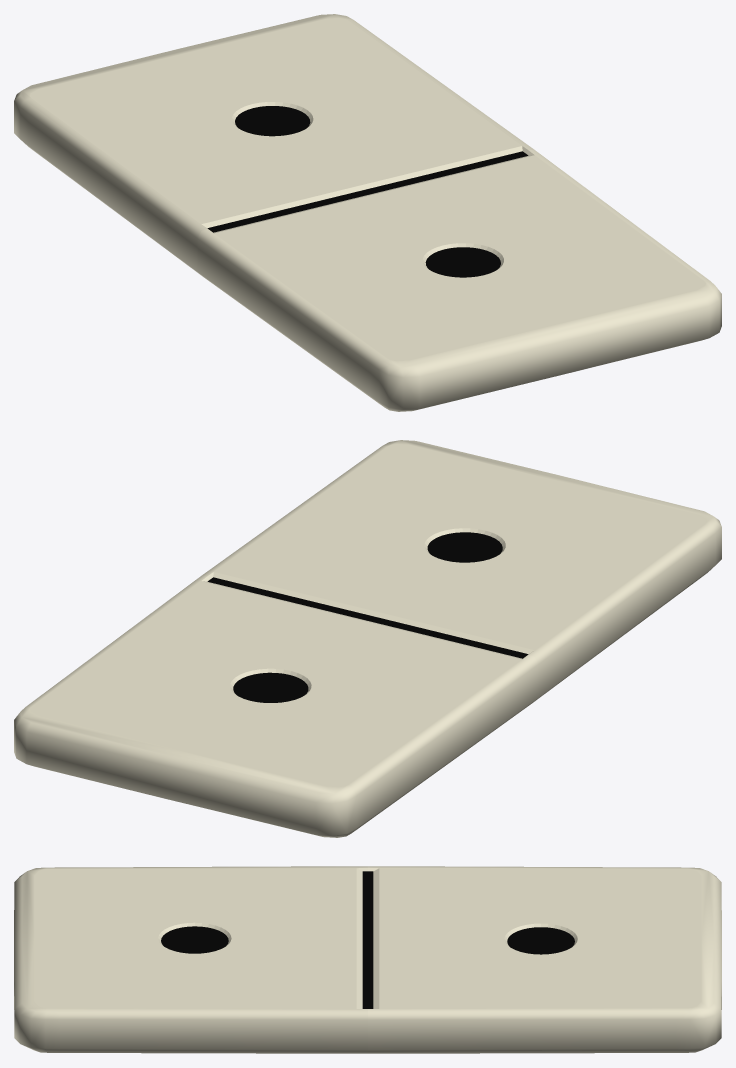
Rendered from Domino_1_1.glb.
3 views of the same model, one above another, from view 1: azimuth 30°, elevation 25°; view 2: azimuth 150°, elevation 25°; view 3: azimuth 270°, elevation 25° (orthographic). The views are drawn at different scales.
Visible parts, largest first — view 1: Domino_1_1_A.001, Domino_1_1_B.001; view 2: Domino_1_1_B.001, Domino_1_1_A.001; view 3: Domino_1_1_A.001, Domino_1_1_B.001.
Part boxes in pixels (x1,y1,x2,y2): Domino_1_1_A.001: [197, 149, 721, 411]; Domino_1_1_B.001: [14, 14, 533, 276]; Domino_1_1_B.001: [14, 575, 538, 837]; Domino_1_1_A.001: [202, 440, 721, 702]; Domino_1_1_A.001: [14, 866, 367, 1053]; Domino_1_1_B.001: [368, 866, 721, 1053].
Bounding box in the file's own units: 0.7725 × 0.105 × 1.54.
